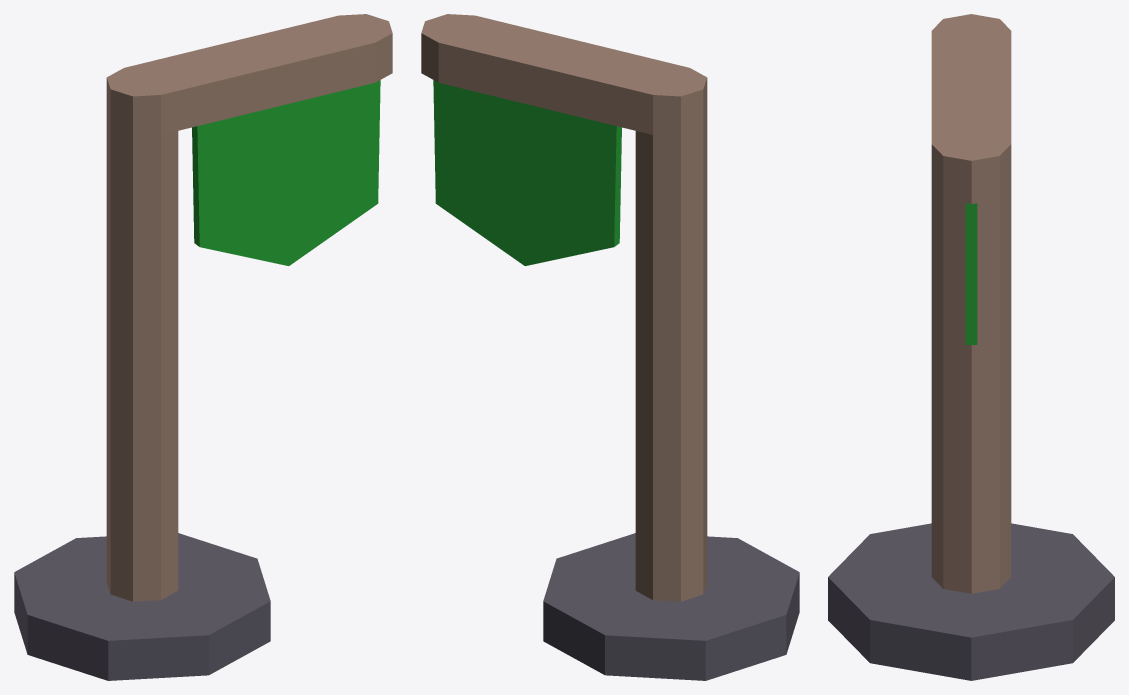
Rendered from Flag2.fbx.
The picture shows the model from 3 angles, left to right: view 1: azimuth 30°, elevation 25°; view 2: azimuth 150°, elevation 25°; view 3: azimuth 270°, elevation 25°; orthographic projection. The views are drawn at different scales.
Parts seen in each view (by area): view 1: Cylinder.004; view 2: Cylinder.004; view 3: Cylinder.004.
Part boxes in pixels (x1,y1,x2,y2): Cylinder.004: (14,14,392,680); Cylinder.004: (421,14,799,680); Cylinder.004: (828,14,1114,680).
Bounding box in the file's own units: 94.32 × 136 × 60.
